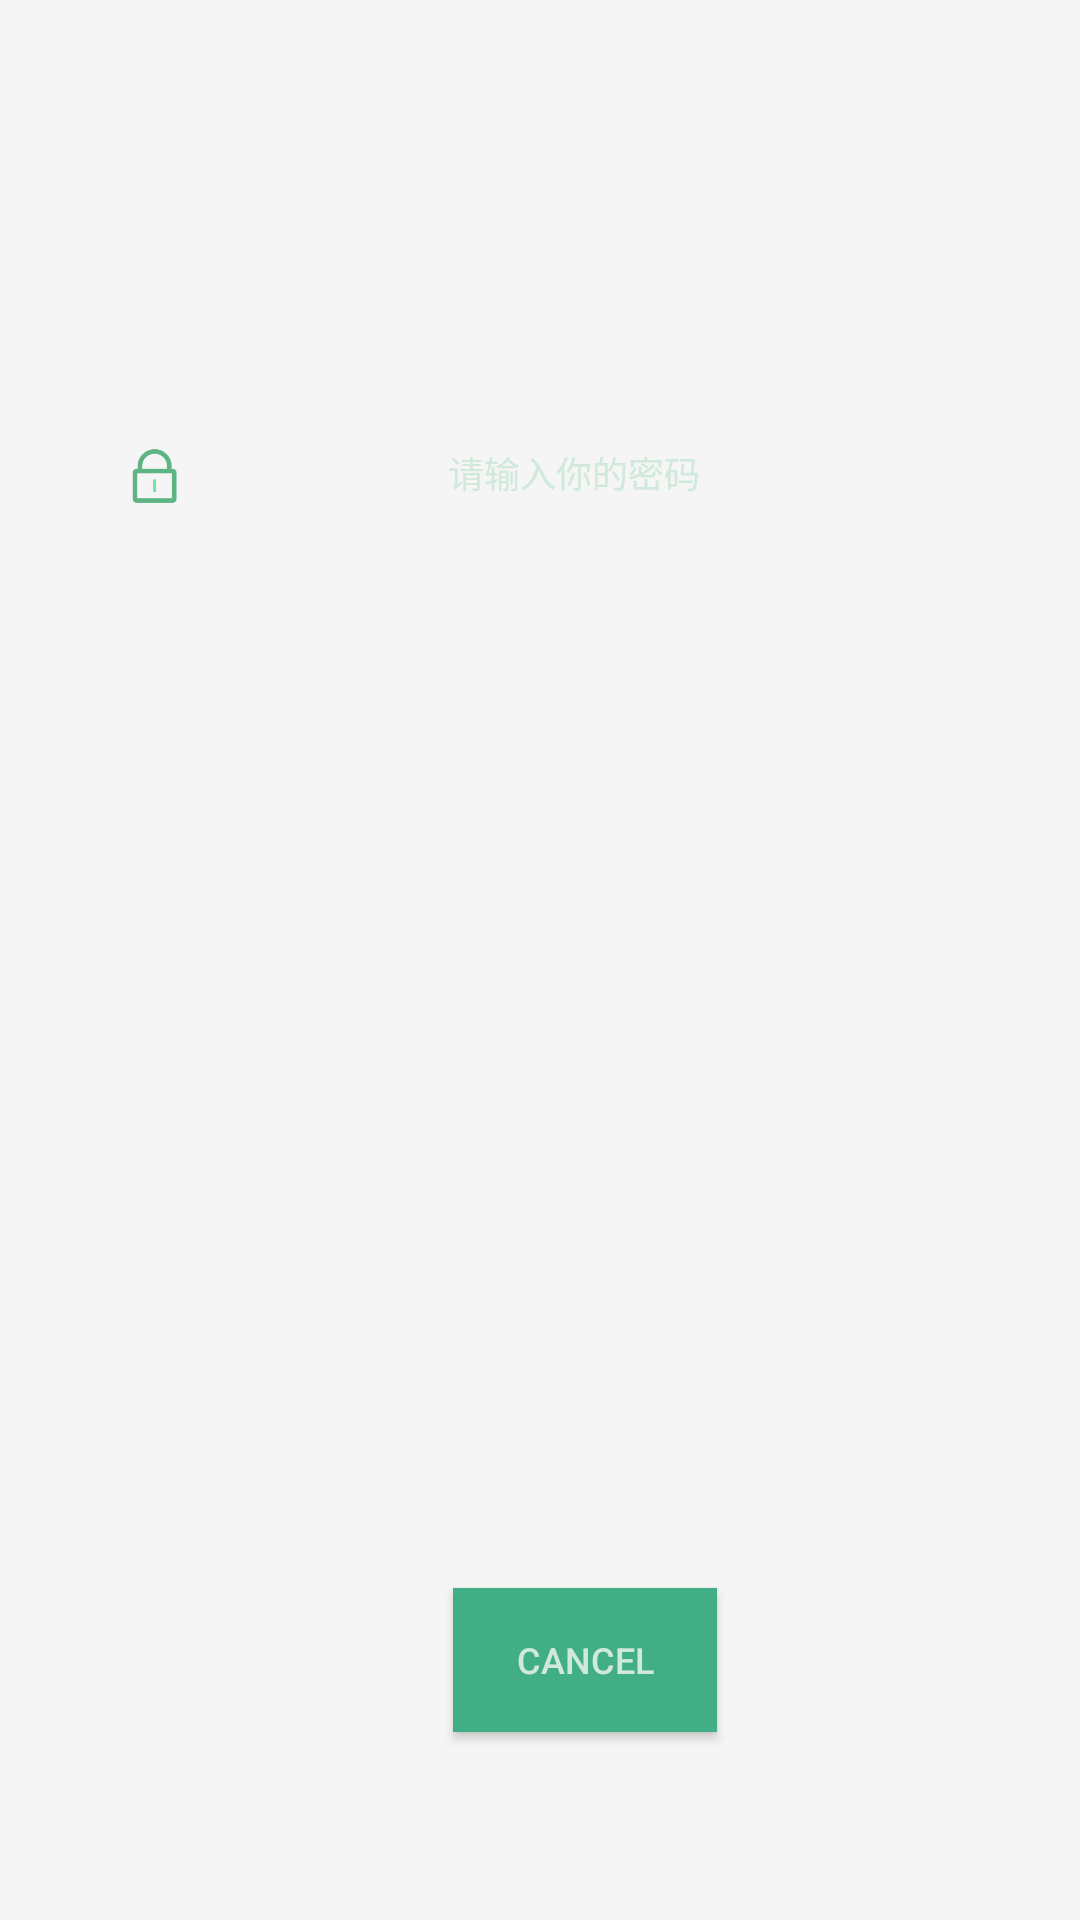

Where icons sit on this 1080 × 1920 app screen, as (x1, y1, x2, y2):
password: (132, 449, 177, 503)
